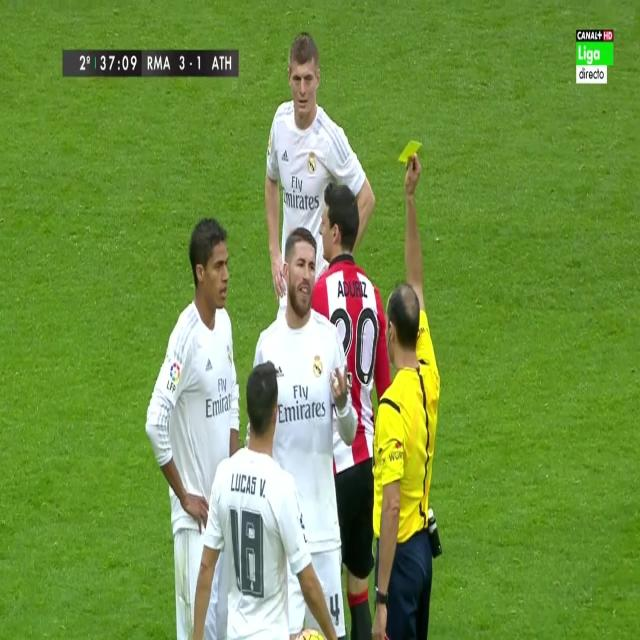Player: (252, 228, 360, 640), (143, 213, 241, 640), (192, 358, 338, 639), (310, 180, 394, 636), (264, 32, 376, 300)
Referee: (368, 135, 442, 640)
